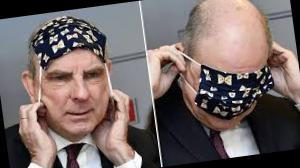mask_weared_incorrect: (192, 25, 278, 136), (34, 33, 118, 139)
